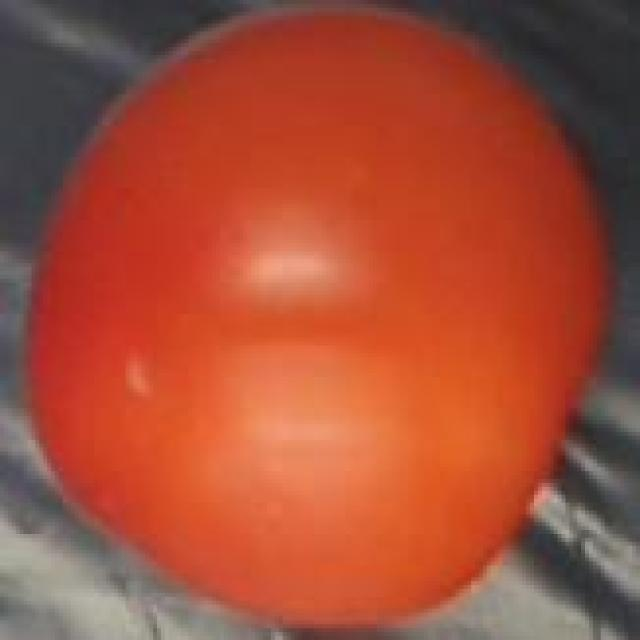ripe tomato: (20, 0, 624, 640)
